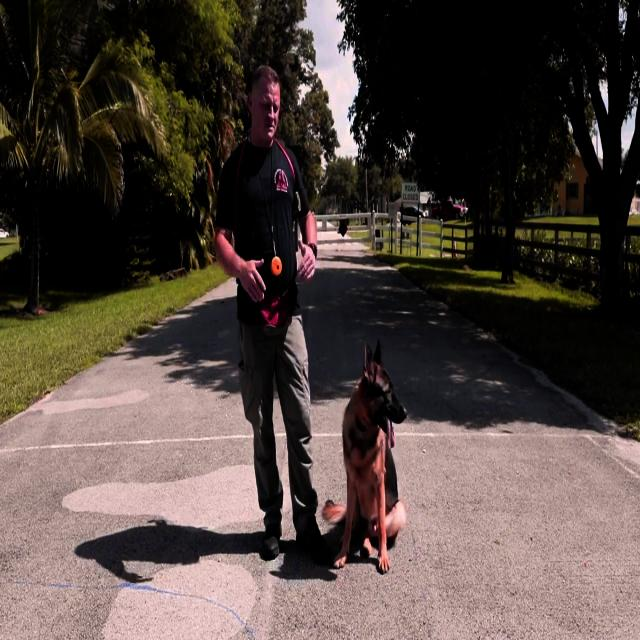Unleashed_Dog: (249, 318, 408, 575)
